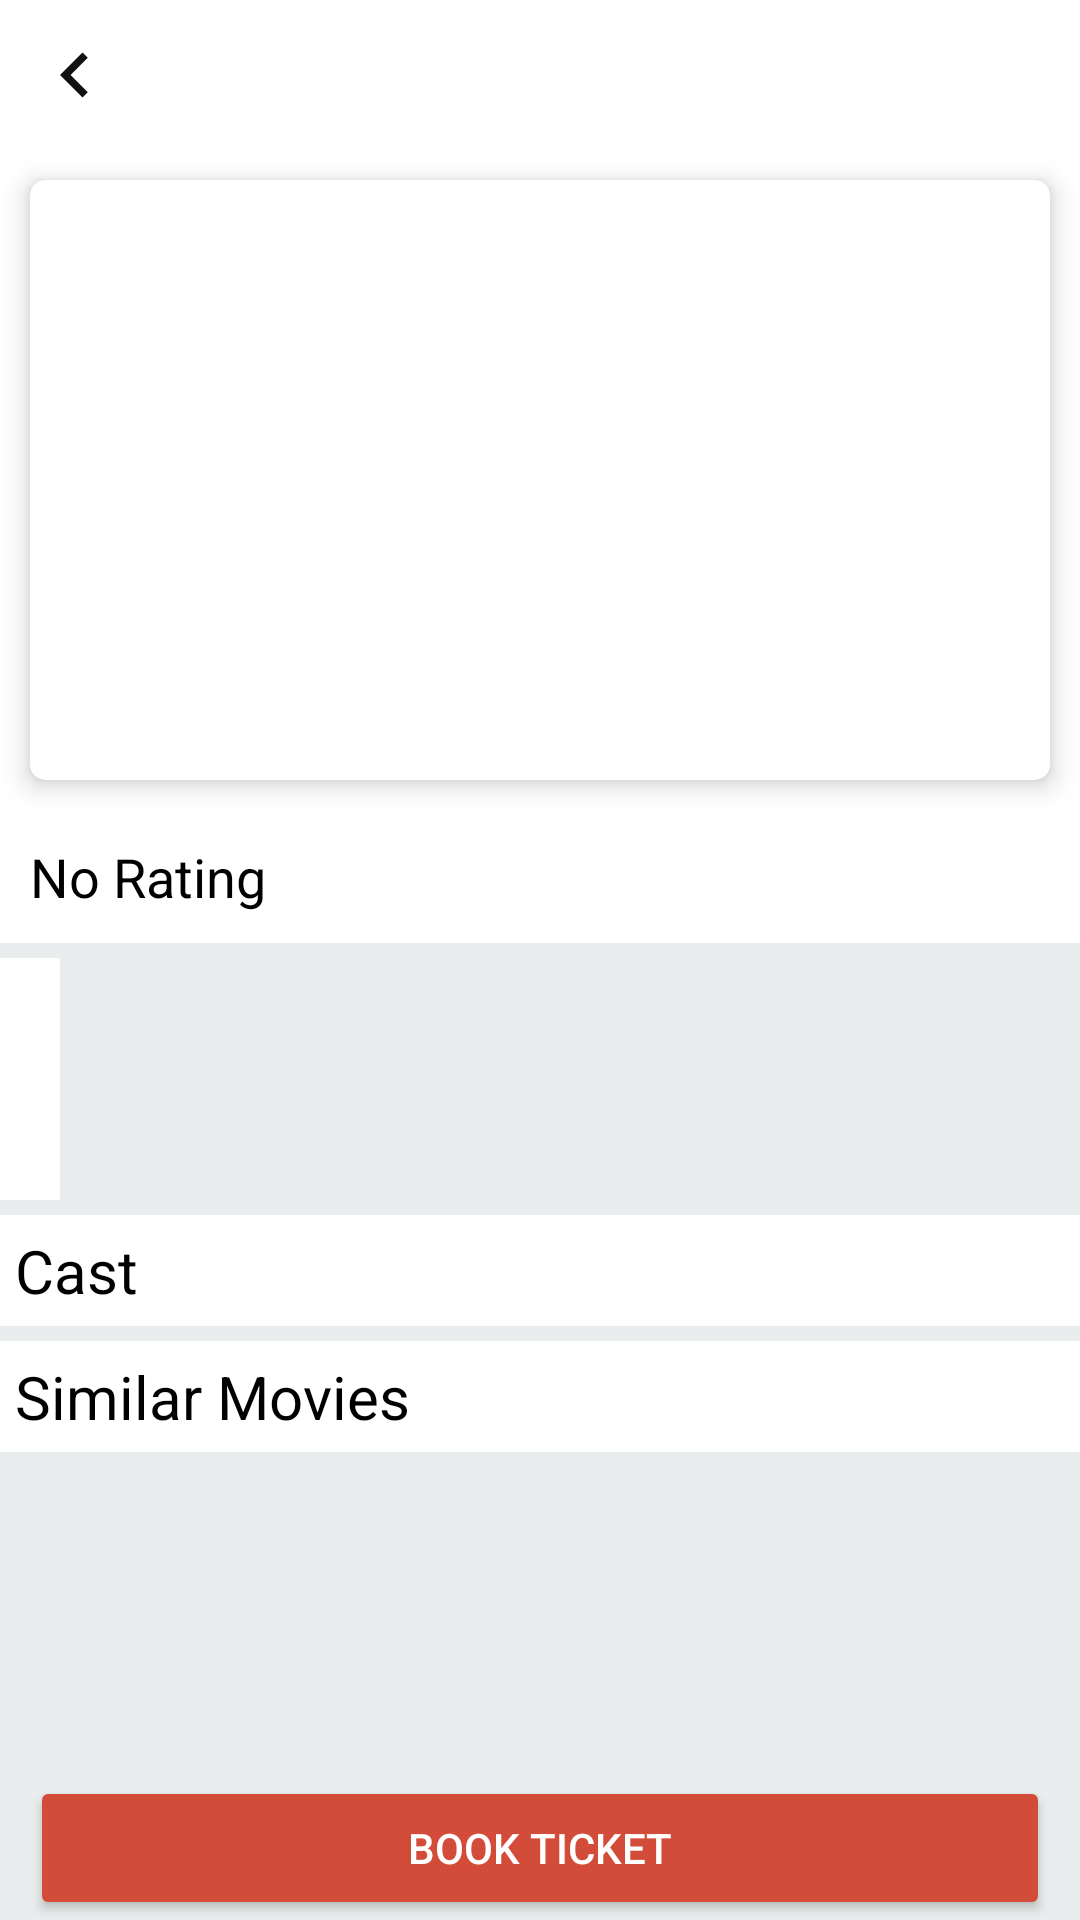

Icons on this 1080px x 1920px Android screen, each with its box as (x1, y1, x2, y2):
left arrow: (60, 52, 88, 98)
